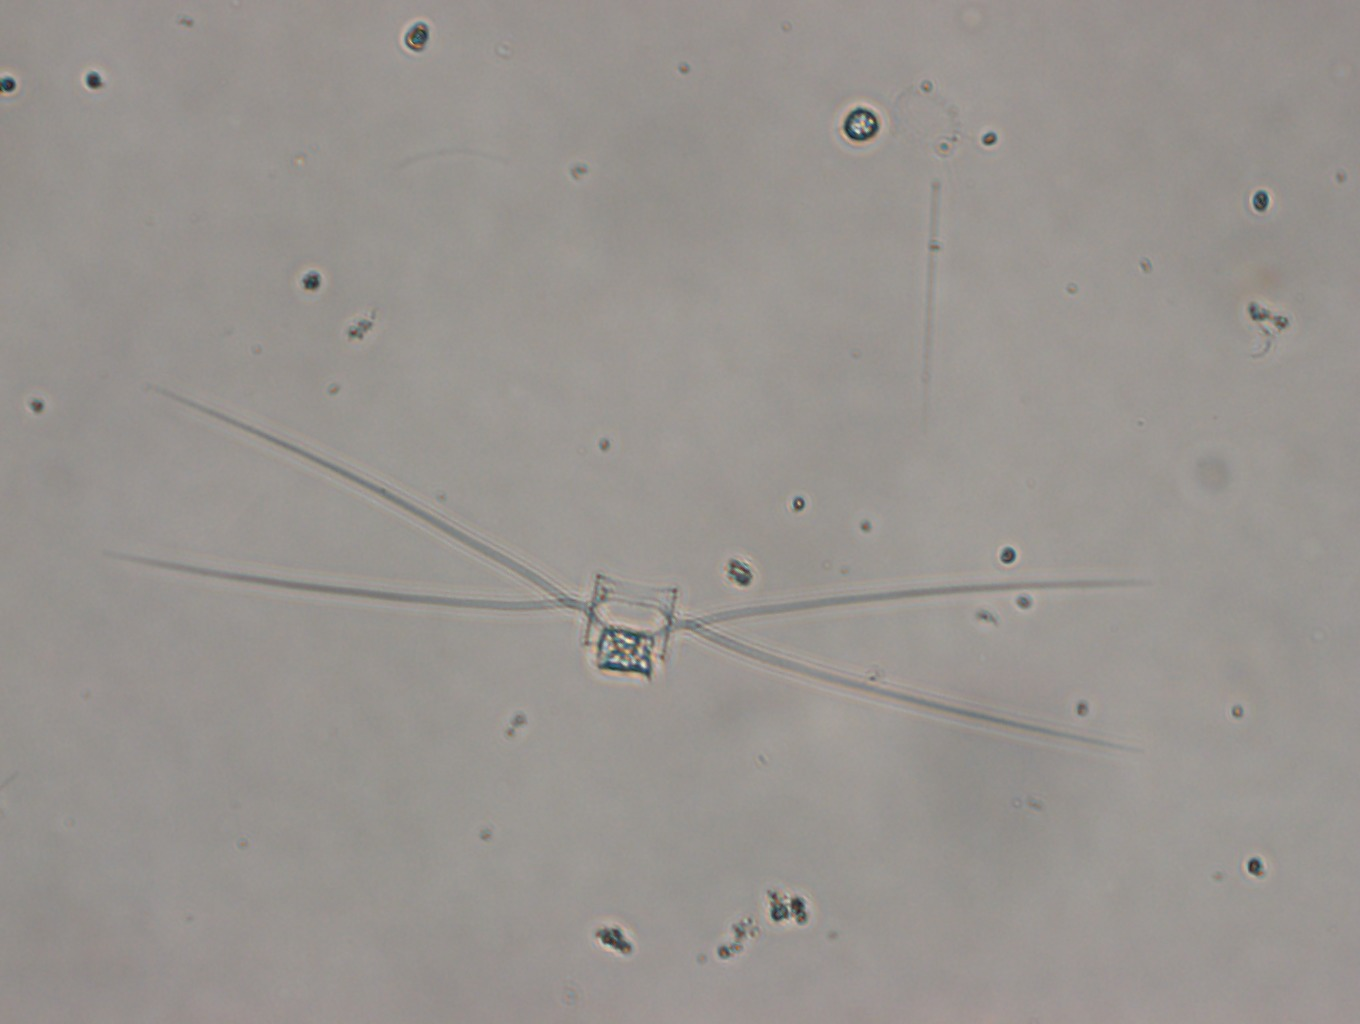chaetoceros: (129, 374, 1150, 753)
